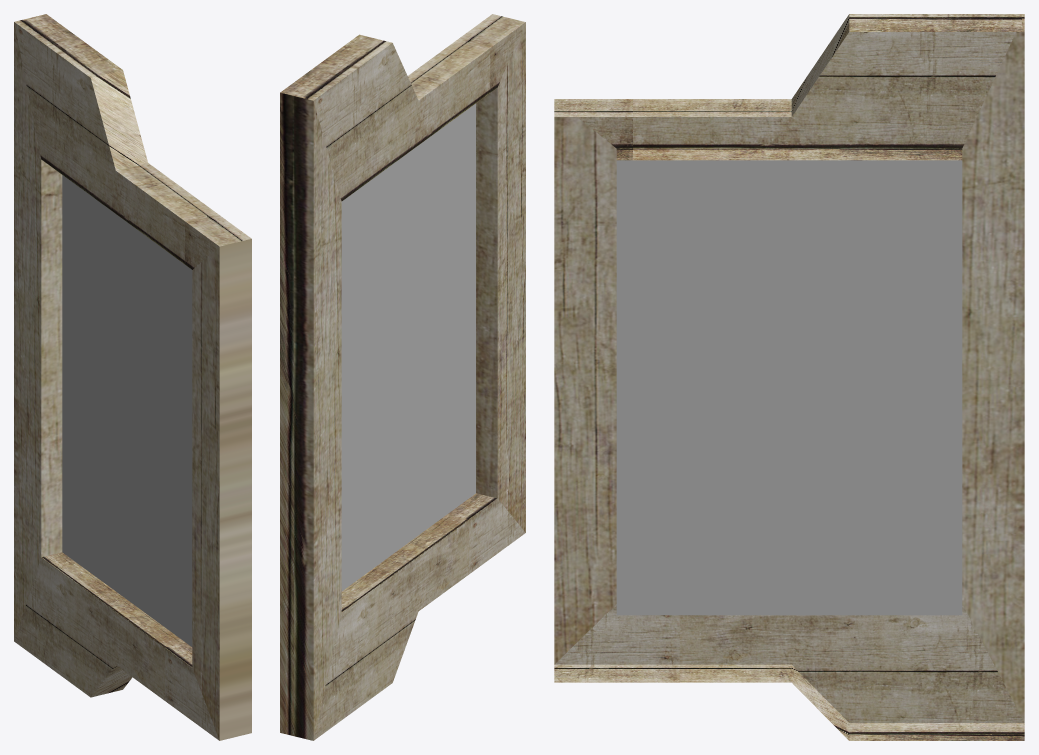
Rendered from doorright.fbx.
3 renders of one model, left to right at view 1: azimuth 30°, elevation 25°; view 2: azimuth 150°, elevation 25°; view 3: azimuth 270°, elevation 25°, orthographic. The views are drawn at different scales.
Parts seen in each view (by area): view 1: polySurface165; view 2: polySurface165; view 3: polySurface165.
Boxes of the visible parts, x1=… form: polySurface165: x1=14, y1=14, x2=251, y2=740; polySurface165: x1=280, y1=14, x2=525, y2=740; polySurface165: x1=554, y1=14, x2=1024, y2=740.
Bounding box in the file's own units: 2.74 × 30.23 × 50.29.
